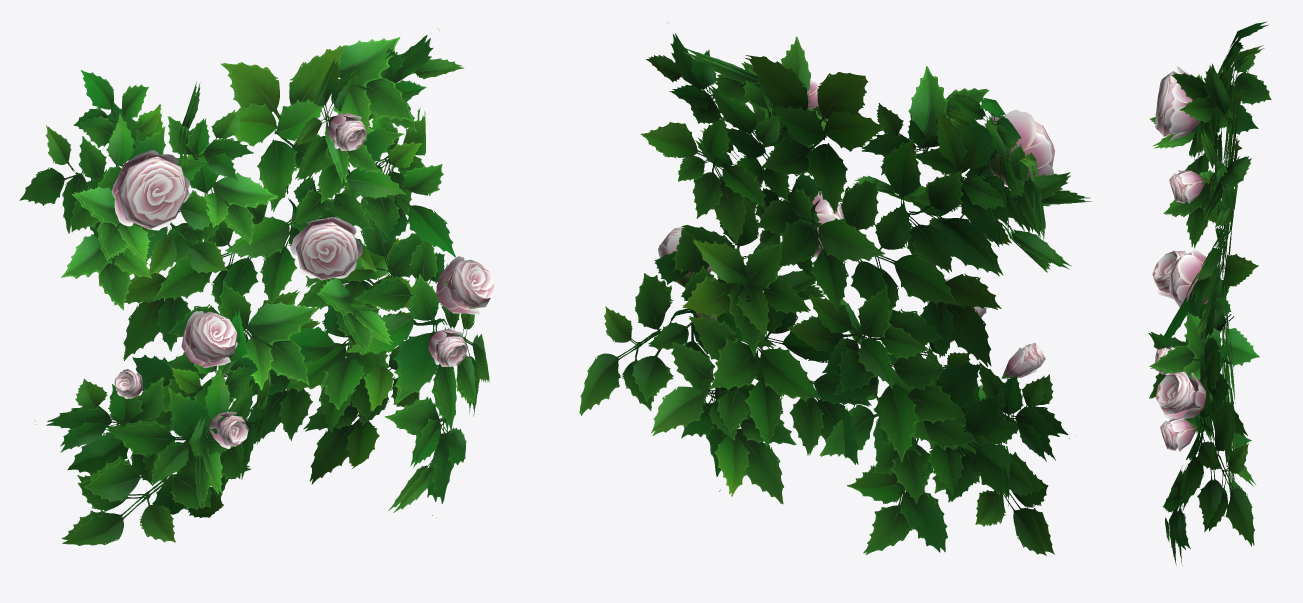
The model's file is SE_Rose_15.fbx.
3 renders of one model, left to right at view 1: azimuth 30°, elevation 25°; view 2: azimuth 150°, elevation 25°; view 3: azimuth 270°, elevation 25°, orthographic. The views are drawn at different scales.
Parts seen in each view (by area): view 1: SE_Rose_15; view 2: SE_Rose_15; view 3: SE_Rose_15.
Part boxes in pixels (<box>): SE_Rose_15: <box>19,28,494,545</box>; SE_Rose_15: <box>579,22,1091,555</box>; SE_Rose_15: <box>1148,21,1271,565</box>.
Size of the model in its own units: 5.5 by 5.64 by 1.69.
